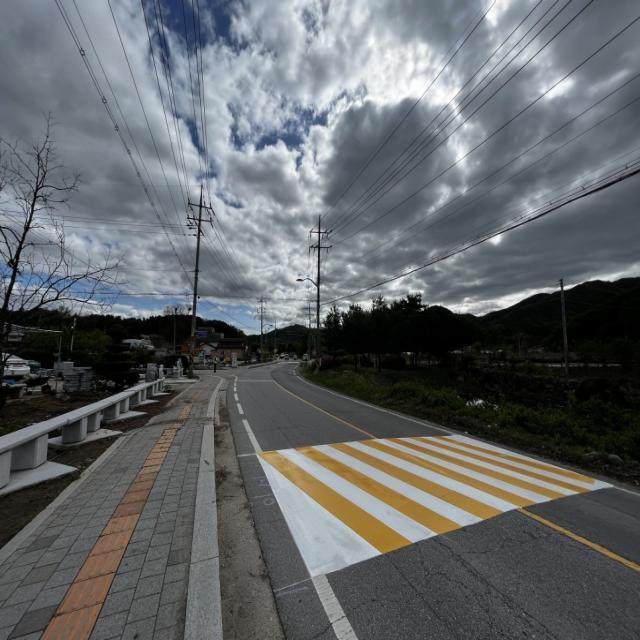speedbreaker: (252, 424, 630, 580)
